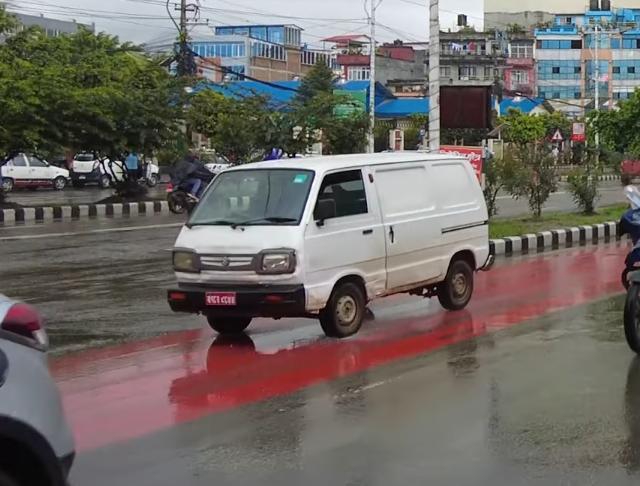van: (161, 148, 506, 353)
